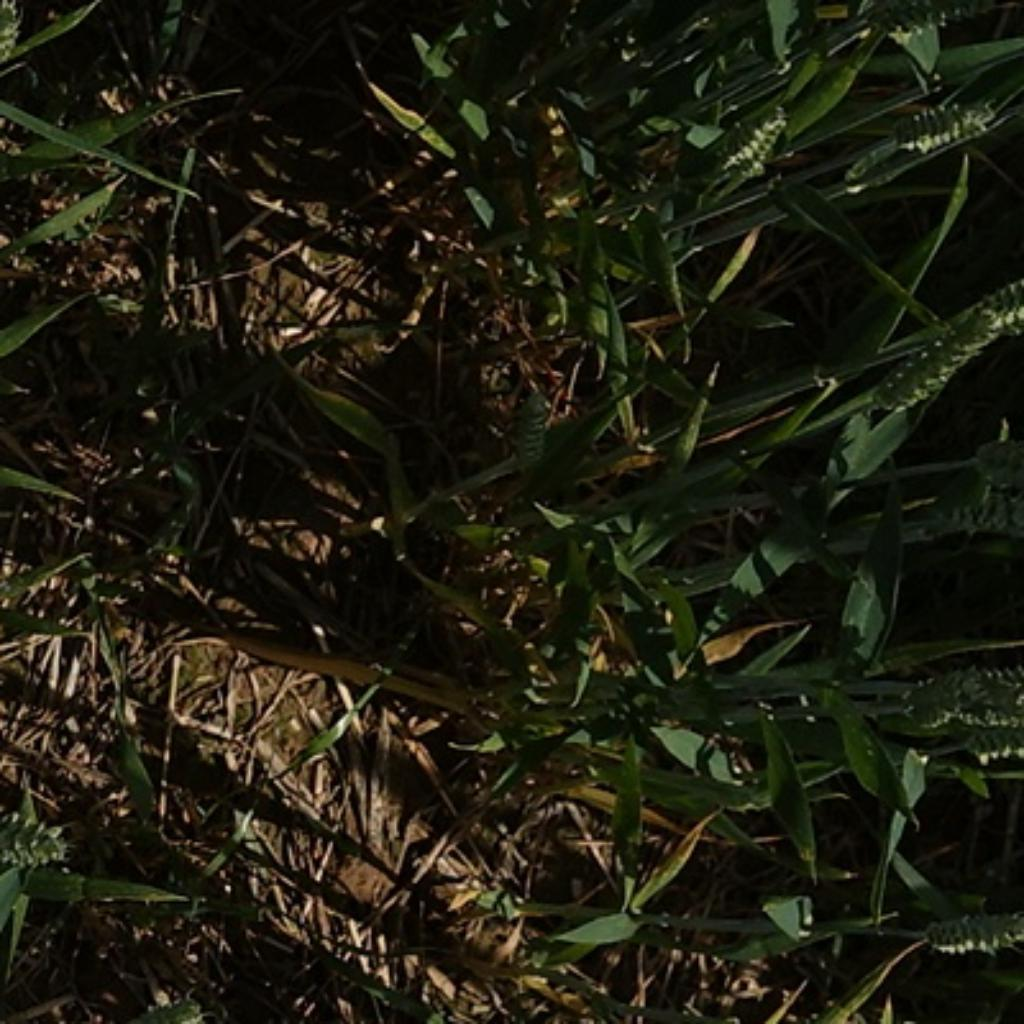0-0: (849, 277, 1024, 430), (870, 83, 1011, 155), (890, 478, 1024, 551), (905, 652, 1024, 732), (485, 382, 572, 484), (915, 896, 1024, 970), (714, 94, 798, 179), (858, 0, 1024, 41), (0, 800, 67, 882)
